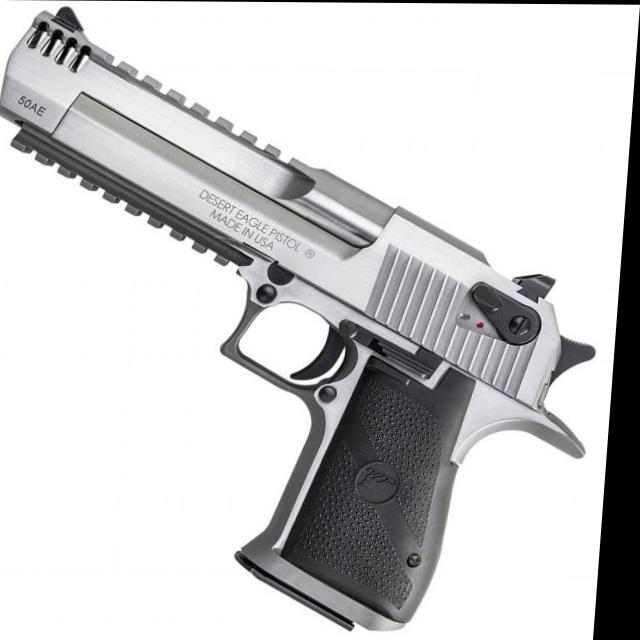handgun: (0, 0, 625, 640)
